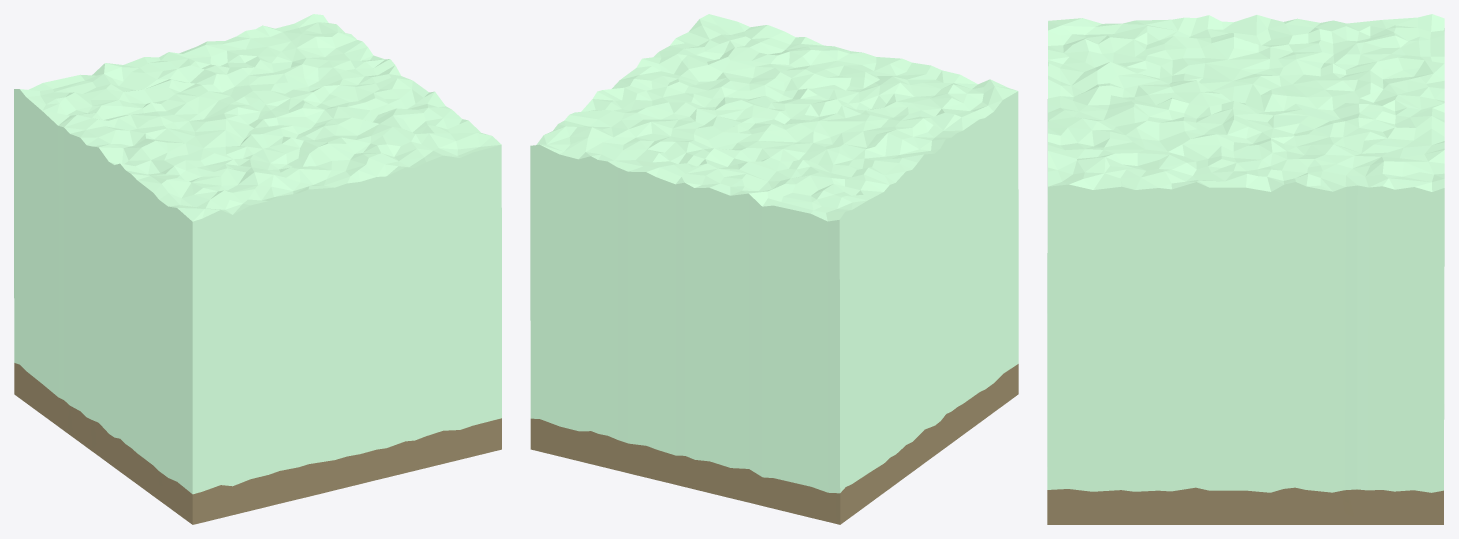
Rendered from under_water_light_house.glb.
The picture shows the model from 3 angles, left to right: view 1: azimuth 30°, elevation 25°; view 2: azimuth 150°, elevation 25°; view 3: azimuth 270°, elevation 25°; orthographic projection. The views are drawn at different scales.
Parts seen in each view (by area): view 1: Plane; view 2: Plane; view 3: Plane.
Part boxes in pixels (x1,y1,x2,y2): Plane: (14, 14, 501, 524); Plane: (530, 14, 1018, 524); Plane: (1047, 14, 1444, 524).
Bounding box in the file's own units: 0.9631 × 0.9252 × 0.9642.
